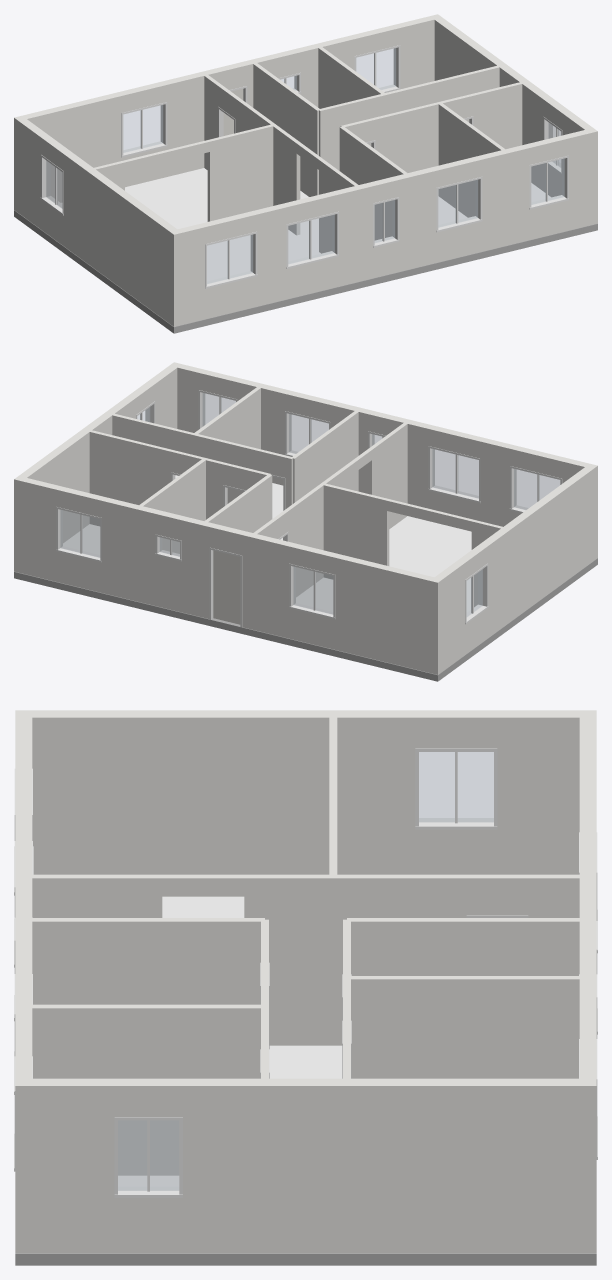
File: house_scandi_shell.glb
The picture shows the model from 3 angles, top to bottom: view 1: azimuth 30°, elevation 25°; view 2: azimuth 150°, elevation 25°; view 3: azimuth 270°, elevation 25°; orthographic projection. The views are drawn at different scales.
Visible parts, largest first — view 1: Ext_W, Int_living_kitchen.002, Ext_N, Ext_S.012, Ext_E.003, Slab, Int_hall_E_N, Ext_S.009, Int_corr_S.002, Ext_S, Ext_S.006, Ext_N.003 (+55 smaller); view 2: Ext_W, Ext_N, Ext_N.008, Int_corr_N.004, Ext_N.003, Int_living_kitchen.002, Slab, Ext_N.011, Floor_Living_room, Ext_E.003, Int_hall_E_S, Int_hall_W.002 (+48 smaller); view 3: Ext_E.003, Ext_W, Int_bath_master, Int_bed2_bed3, Int_hall_E_S, Int_hall_W.002, Ext_E, Ext_W.003, Int_hall_E_N, Slab, Int_hall_W, Frame.055 (+24 smaller).
Boxes of the visible parts, x1=… form: Ext_W: x1=64, y1=152, x2=176, y2=322; Int_living_kitchen.002: x1=207, y1=124, x2=273, y2=221; Ext_N: x1=14, y1=92, x2=121, y2=212; Ext_S.012: x1=478, y1=144, x2=529, y2=251; Ext_E.003: x1=434, y1=17, x2=551, y2=191; Slab: x1=14, y1=210, x2=597, y2=333; Int_hall_E_N: x1=253, y1=63, x2=319, y2=196; Ext_S.009: x1=394, y1=167, x2=436, y2=271; Int_corr_S.002: x1=373, y1=100, x2=447, y2=195; Ext_S: x1=169, y1=224, x2=204, y2=326; Ext_S.006: x1=334, y1=183, x2=372, y2=286; Ext_N.003: x1=162, y1=70, x2=214, y2=176; Ext_W: x1=480, y1=467, x2=593, y2=637; Ext_N: x1=335, y1=554, x2=442, y2=674; Ext_N.008: x1=102, y1=497, x2=159, y2=605; Int_corr_N.004: x1=89, y1=430, x2=172, y2=526; Ext_N.003: x1=242, y1=531, x2=293, y2=638; Int_living_kitchen.002: x1=322, y1=483, x2=389, y2=579; Slab: x1=14, y1=558, x2=597, y2=681; Ext_N.011: x1=14, y1=476, x2=60, y2=581; Floor_Living_room: x1=389, y1=516, x2=471, y2=611; Ext_E.003: x1=19, y1=396, x2=135, y2=542; Int_hall_E_S: x1=292, y1=411, x2=358, y2=503; Int_hall_W.002: x1=284, y1=465, x2=349, y2=597; Ext_E.003: x1=183, y1=1078, x2=579, y2=1253; Ext_W: x1=32, y1=710, x2=415, y2=874; Int_bath_master: x1=347, y1=976, x2=579, y2=1078; Int_bed2_bed3: x1=32, y1=1004, x2=260, y2=1175; Int_hall_E_S: x1=32, y1=918, x2=264, y2=1004; Int_hall_W.002: x1=244, y1=874, x2=466, y2=1045; Ext_E: x1=32, y1=1078, x2=114, y2=1253; Ext_W.003: x1=497, y1=710, x2=579, y2=874; Int_hall_E_N: x1=347, y1=918, x2=579, y2=975; Slab: x1=15, y1=1253, x2=596, y2=1265; Int_hall_W: x1=32, y1=874, x2=162, y2=917; Frame.055: x1=419, y1=752, x2=493, y2=822.
Size of the model in its own units: 13.04 by 2.9 by 8.54.
